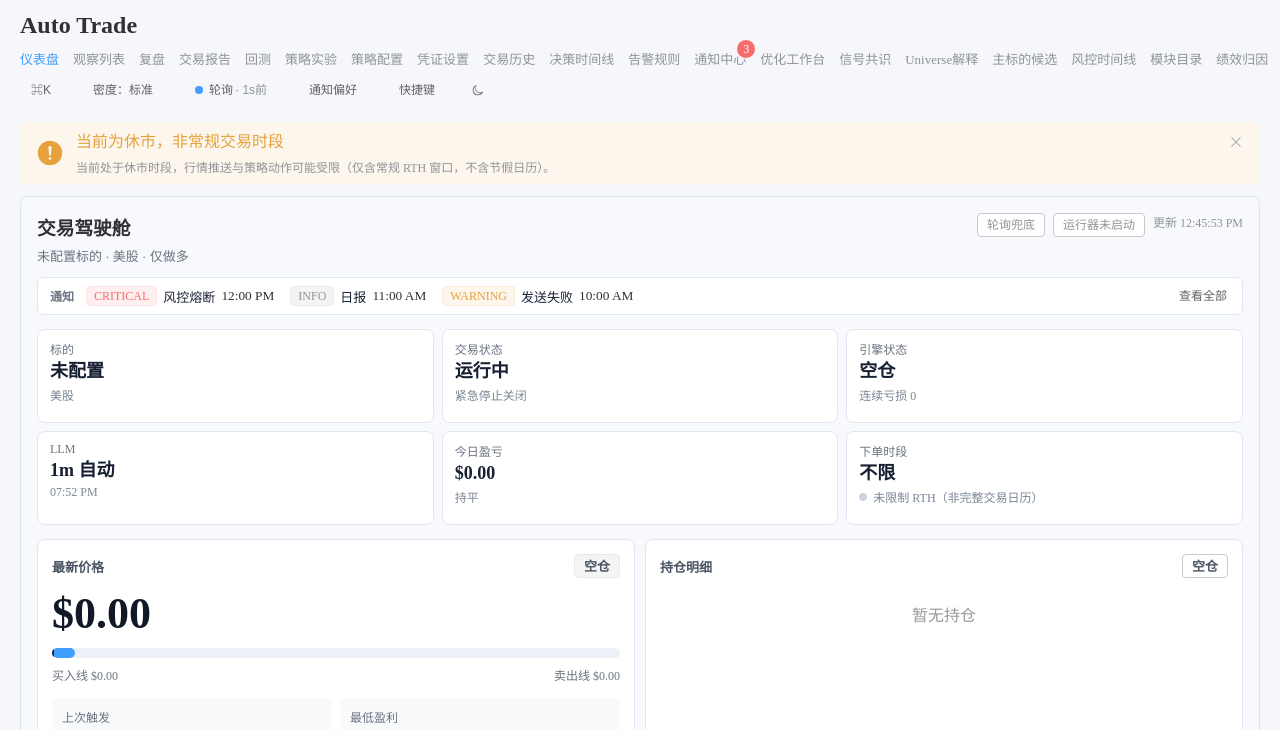
Scenario: Market session awareness banner › shows a dismissible banner when the market is outside RTH
expect the message with test id "session-banner" is shown: met, box [20, 122, 1260, 184]
expect the text with test id "session-banner" shows "休市": met, box [76, 133, 284, 150]
Note: Dismiss hides it for the current phase.
Click the 2nd icon.
click(1236, 142)  # box [1228, 134, 1244, 150]
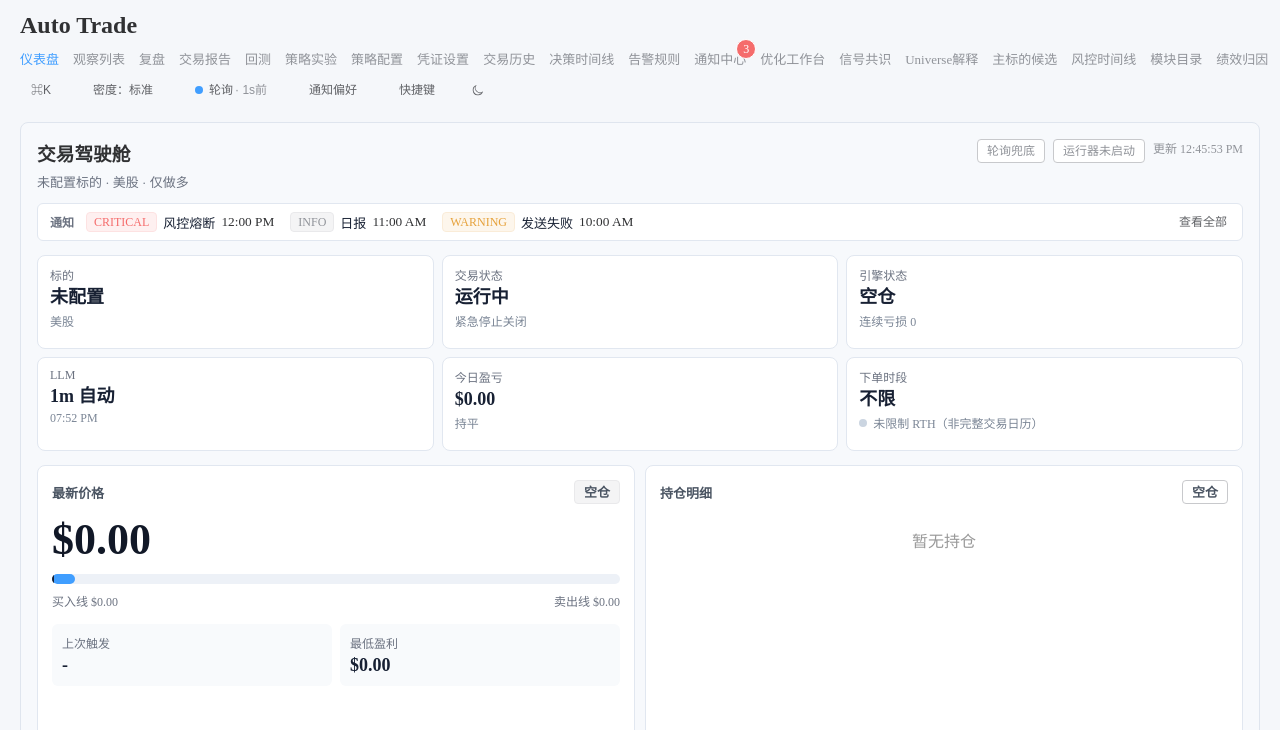
expect the message with test id "session-banner" is gone: met
